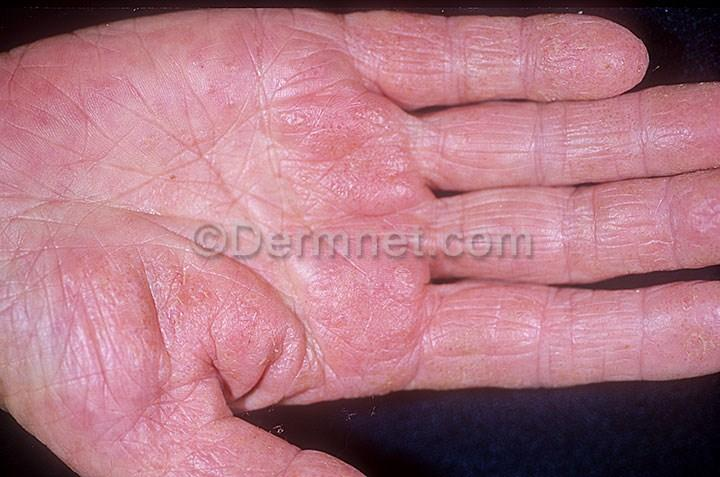Eczema: (49, 259, 159, 366), (304, 94, 389, 203), (322, 255, 421, 345), (293, 22, 379, 101), (613, 185, 695, 265), (130, 392, 205, 477), (199, 260, 276, 336), (542, 24, 623, 92), (639, 97, 712, 172), (668, 286, 720, 369), (486, 307, 544, 364)
